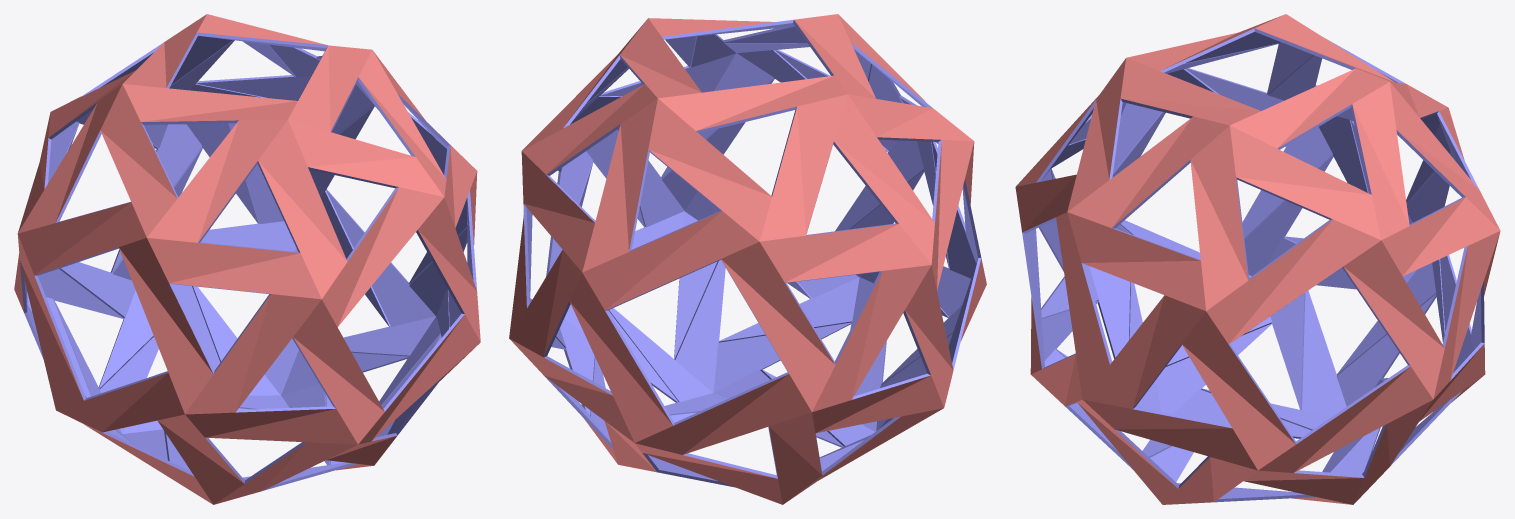
Rendered from SnubCube.glb.
The picture shows the model from 3 angles, left to right: view 1: azimuth 30°, elevation 25°; view 2: azimuth 150°, elevation 25°; view 3: azimuth 270°, elevation 25°; orthographic projection. The views are drawn at different scales.
Parts seen in each view (by area): view 1: root; view 2: root; view 3: root.
Part boxes in pixels (<box>): root: <box>14,14,480,504</box>; root: <box>509,14,986,504</box>; root: <box>1015,14,1500,504</box>.
Size of the model in its own units: 7.63 by 6.86 by 7.63.
